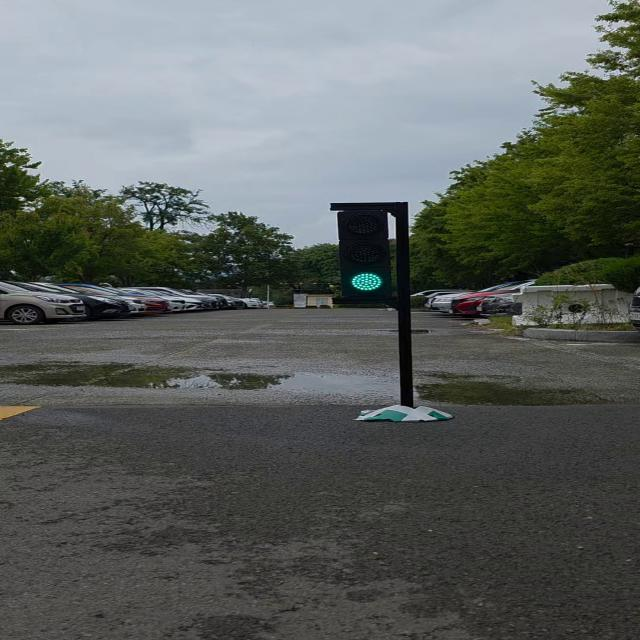green: (330, 202, 409, 306)
